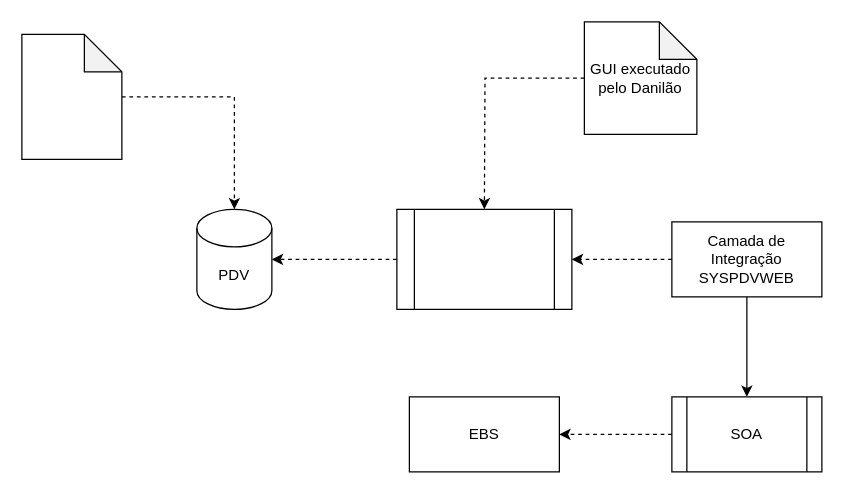
Some shapes in this 844 by 494 pixel diagram are drawn without their labels. Each missing label, with the box of its shape:
Processar Título: (396, 208, 572, 309)
Títulko na Base do SYSPDV: (21, 33, 122, 159)
